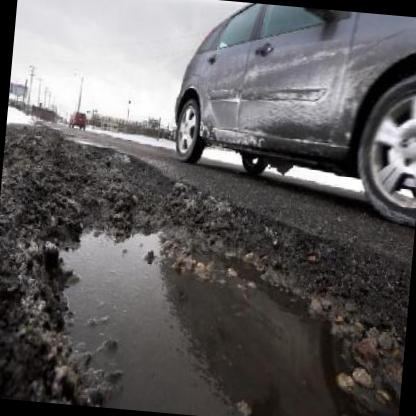pothole: (0, 128, 416, 416)
